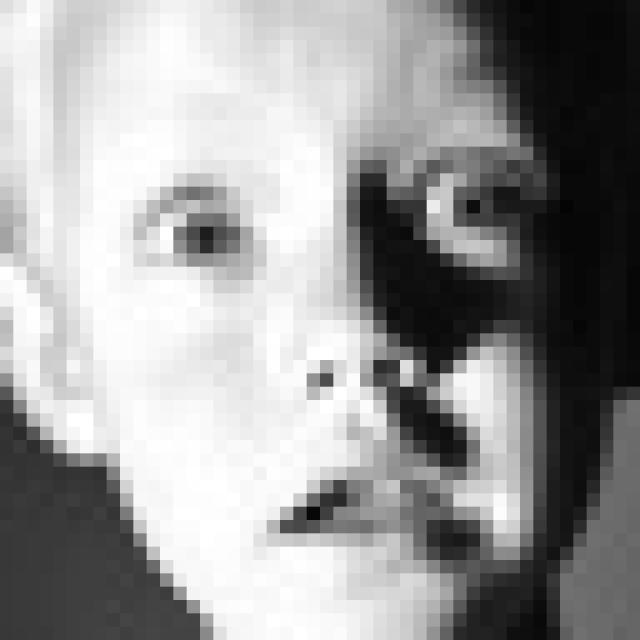surprise: (122, 116, 570, 596)
